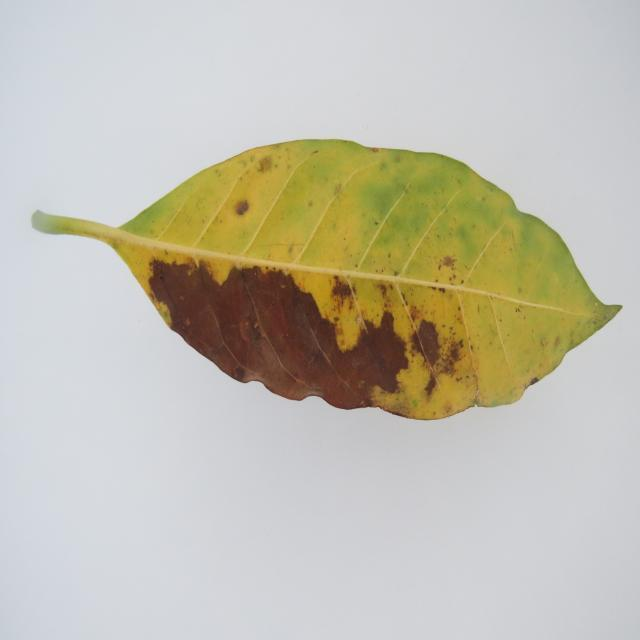DeficienciaNutricional-Potasio: (32, 140, 620, 420)
